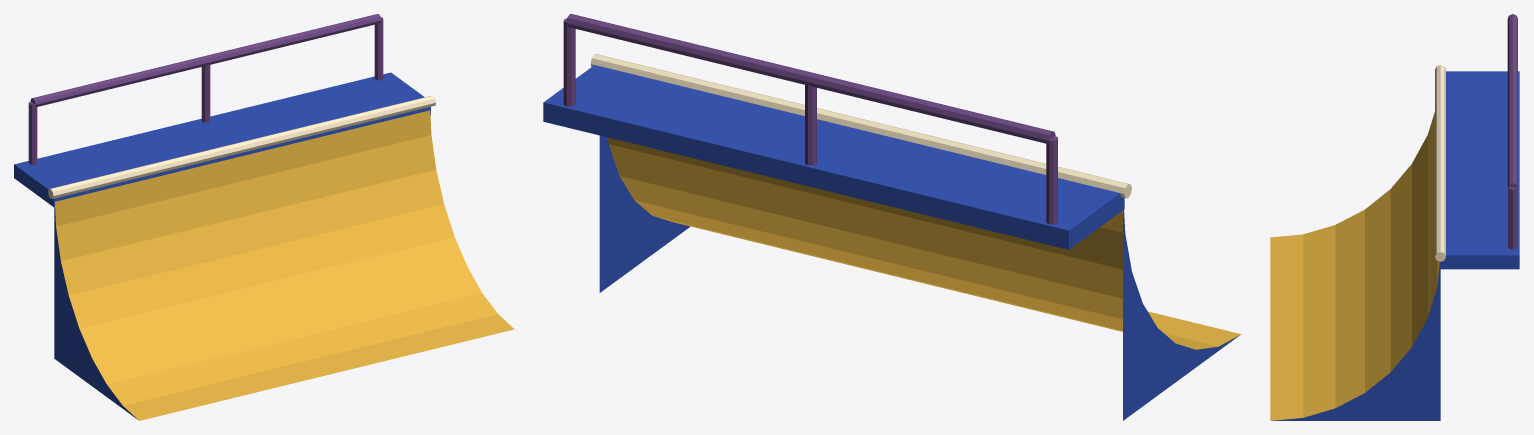
File: quarter_pipe.glb
3 views of the same model, side by side, from view 1: azimuth 30°, elevation 25°; view 2: azimuth 150°, elevation 25°; view 3: azimuth 270°, elevation 25° (orthographic). The views are drawn at different scales.
Parts seen in each view (by area): view 1: quarter_pipe; view 2: quarter_pipe; view 3: quarter_pipe.
Boxes of the visible parts, box(x1,y1,x2,y2) form: quarter_pipe: box(14, 14, 514, 420); quarter_pipe: box(543, 14, 1241, 420); quarter_pipe: box(1270, 14, 1519, 420).
Size of the model in its own units: 5.2 by 2.99 by 2.93.
